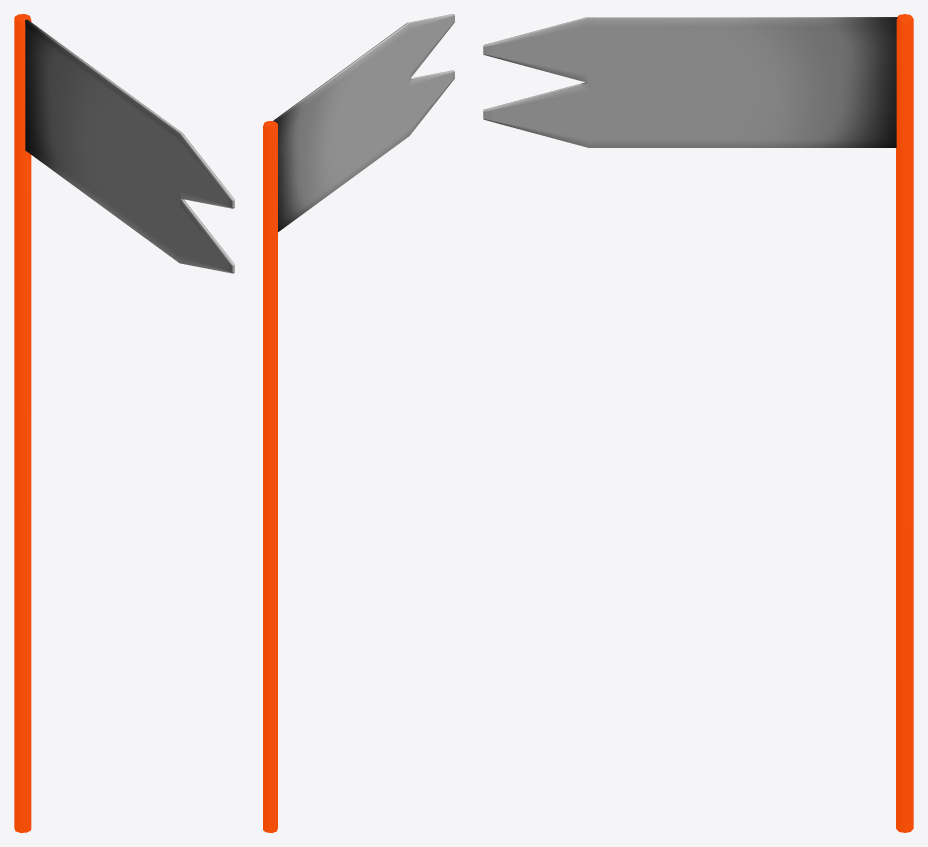
File: SM_Flag.fbx
The picture shows the model from 3 angles, left to right: view 1: azimuth 30°, elevation 25°; view 2: azimuth 150°, elevation 25°; view 3: azimuth 270°, elevation 25°; orthographic projection. The views are drawn at different scales.
Visible parts, largest first — view 1: SM_Flag_LOD0; view 2: SM_Flag_LOD0; view 3: SM_Flag_LOD0.
Boxes of the visible parts, <box> form: SM_Flag_LOD0: <box>14,14,234,832</box>; SM_Flag_LOD0: <box>263,14,454,832</box>; SM_Flag_LOD0: <box>483,14,913,832</box>.
Bounding box in the file's own units: 8.1 × 197 × 411.
